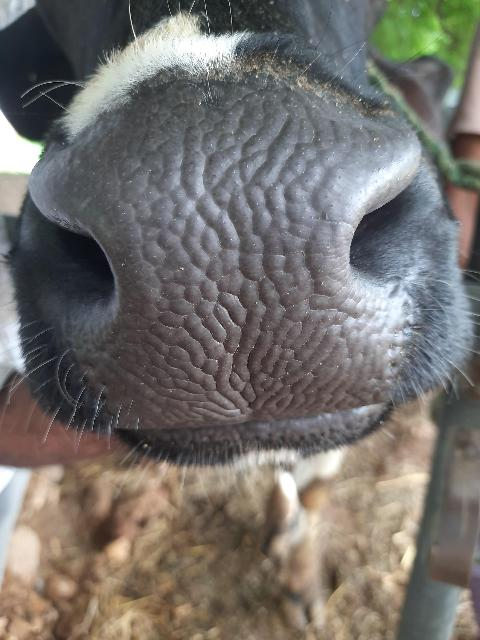Muzzle: (44, 127, 422, 411)
